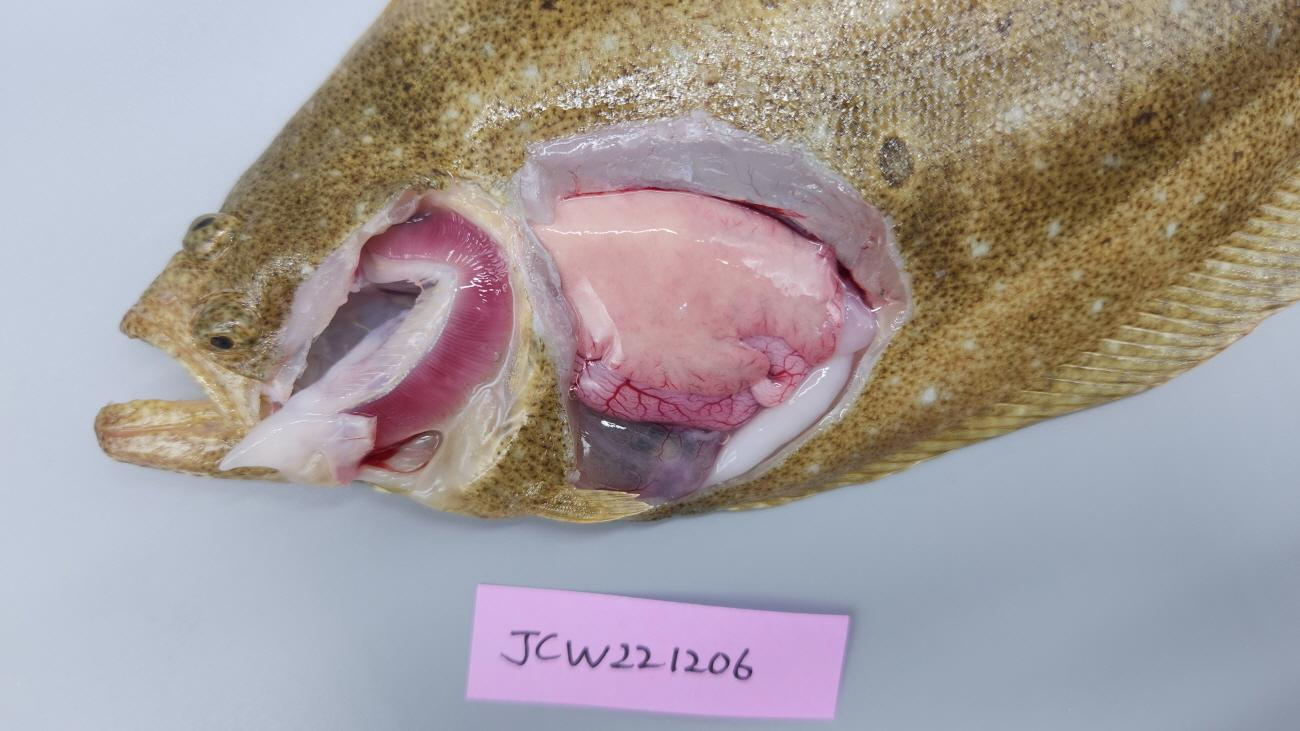POLIN: (526, 187, 843, 397)
